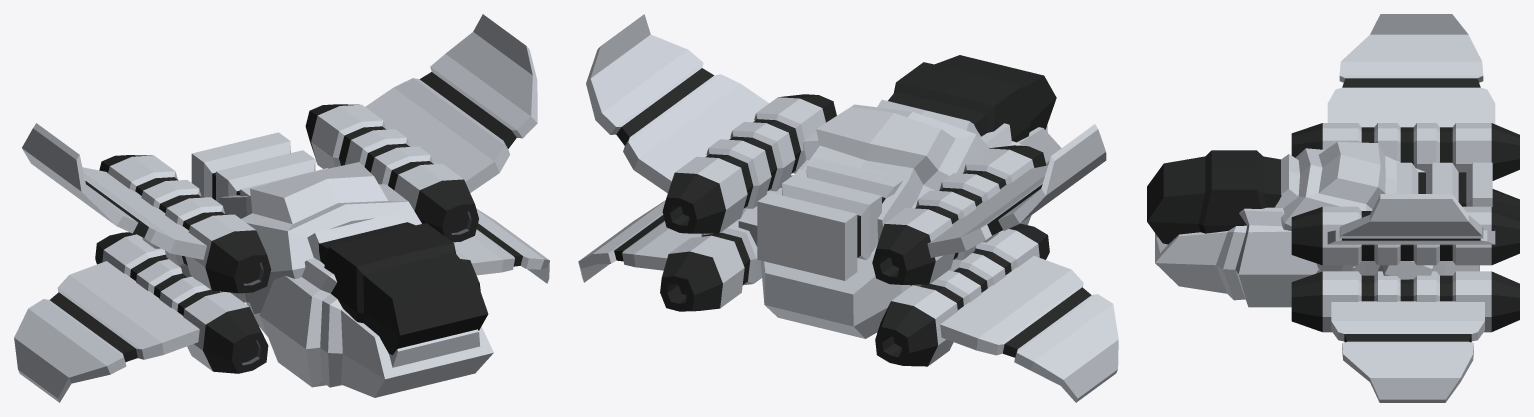
The model's file is Navesita2.fbx.
3 views of the same model, side by side, from view 1: azimuth 30°, elevation 25°; view 2: azimuth 150°, elevation 25°; view 3: azimuth 270°, elevation 25° (orthographic). The views are drawn at different scales.
Visible parts, largest first — view 1: Cube; view 2: Cube; view 3: Cube.
Boxes of the visible parts, x1=… form: Cube: x1=14, y1=14, x2=549, y2=402; Cube: x1=578, y1=14, x2=1118, y2=402; Cube: x1=1147, y1=14, x2=1519, y2=402.
Bounding box in the file's own units: 828 × 391 × 658.
